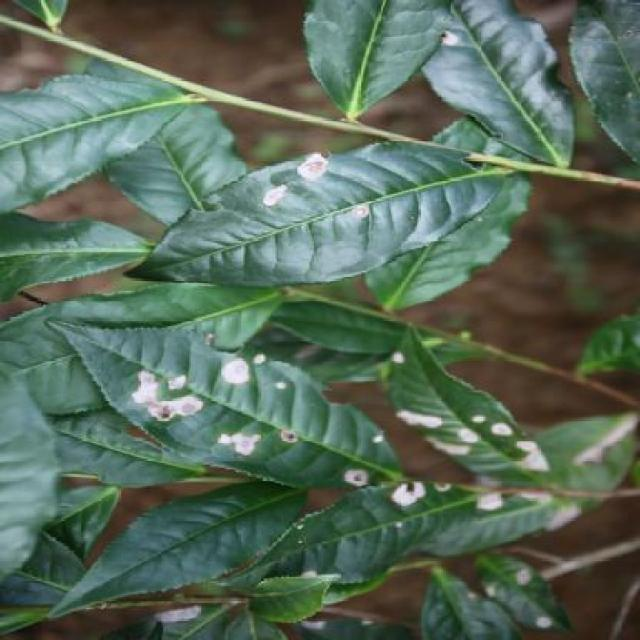Red Spider infested tea leaf: (59, 312, 422, 505), (363, 309, 542, 509), (197, 142, 469, 249), (269, 418, 540, 511)
